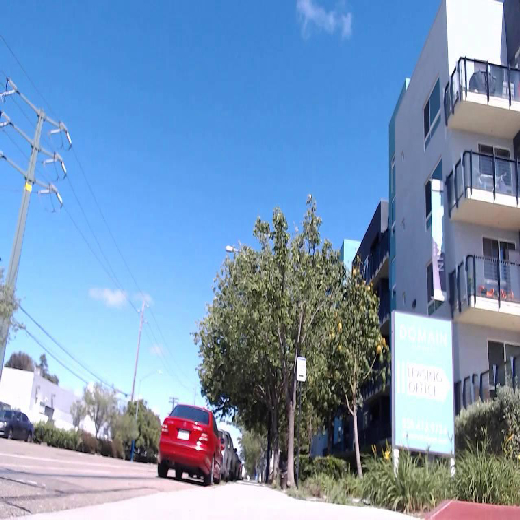license_plate: (176, 427, 189, 440)
vehicle: (152, 401, 222, 485)
